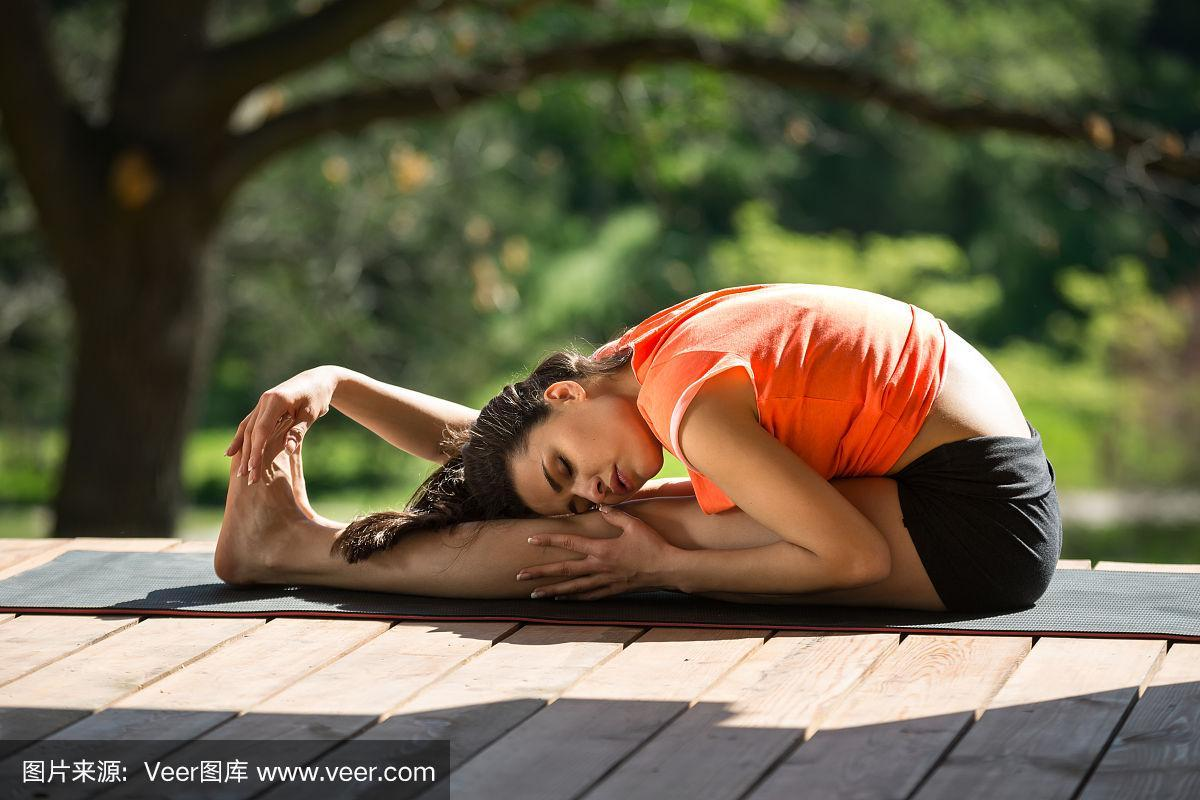bending: (197, 260, 1068, 627)
